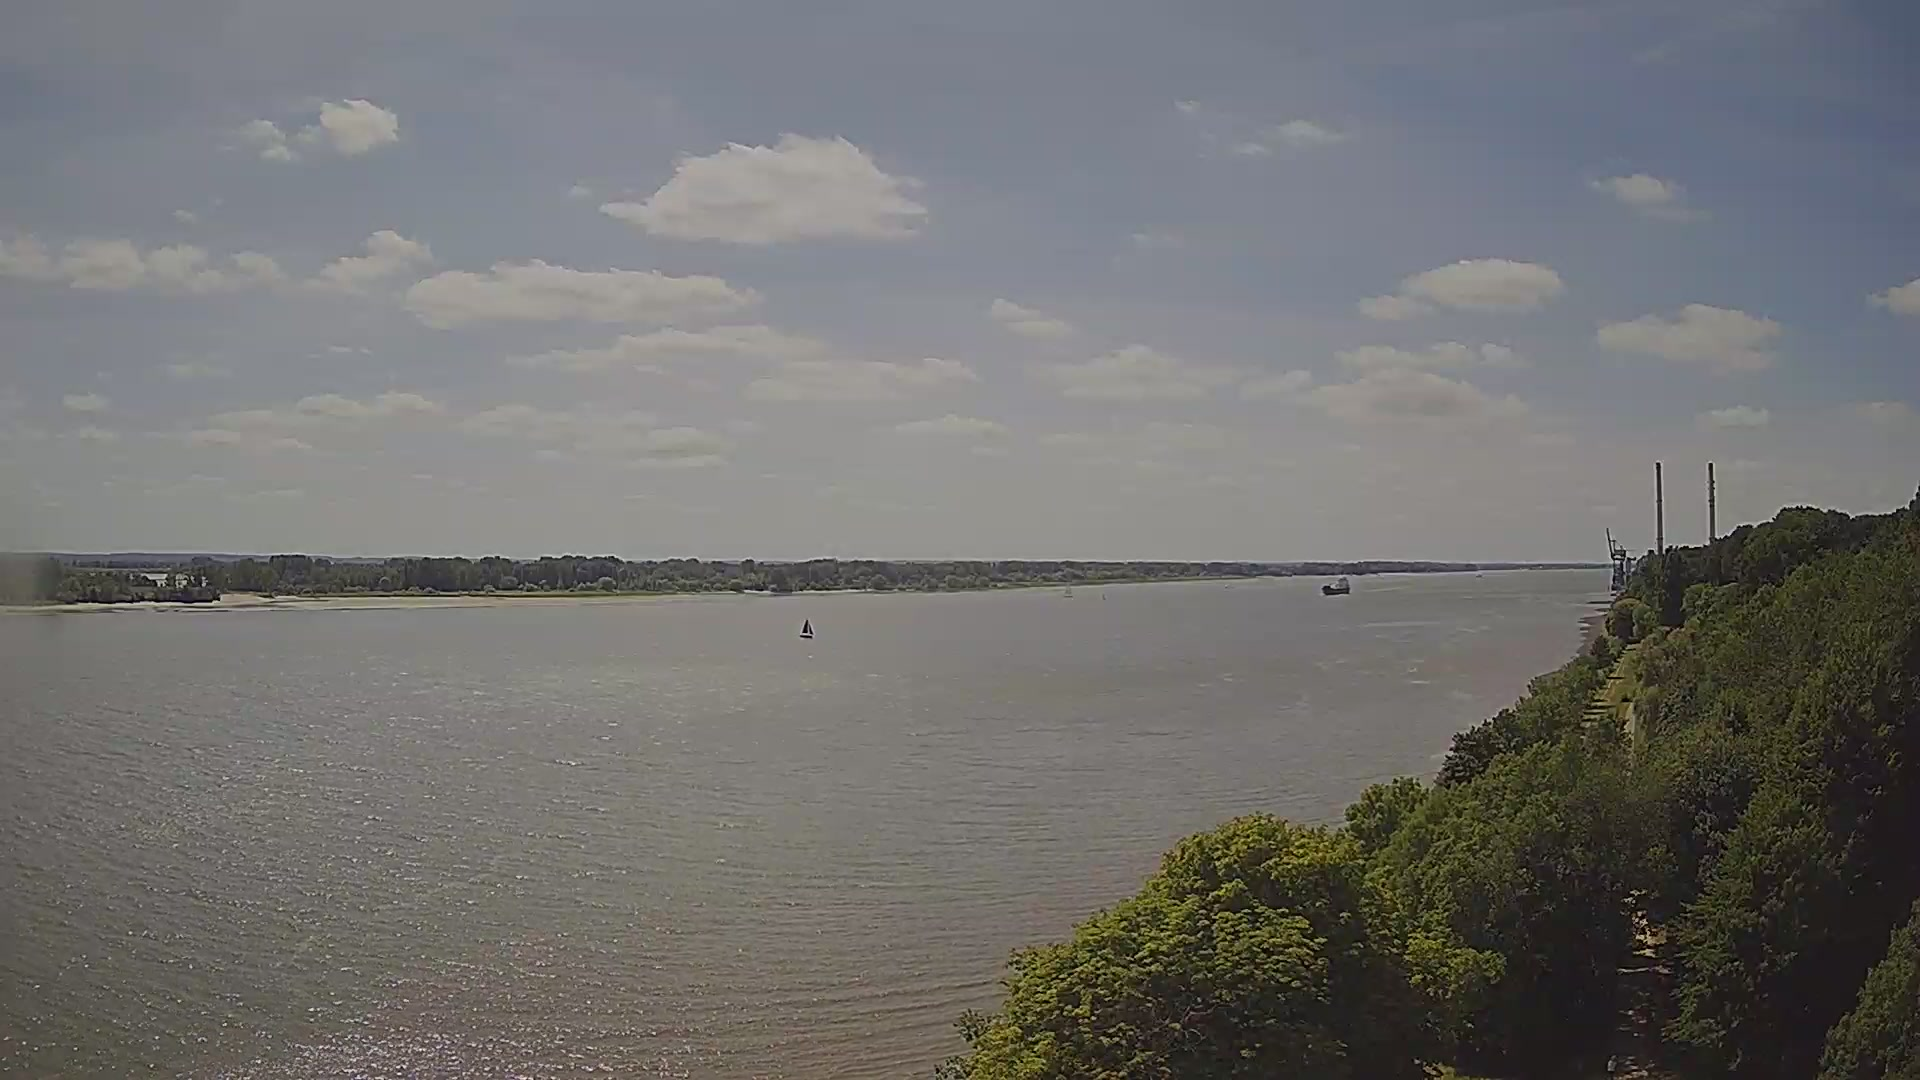human: (1607, 1054, 1619, 1079)
sea: (1322, 576, 1350, 595), (799, 618, 814, 638), (1063, 580, 1073, 597), (1475, 573, 1483, 578)
